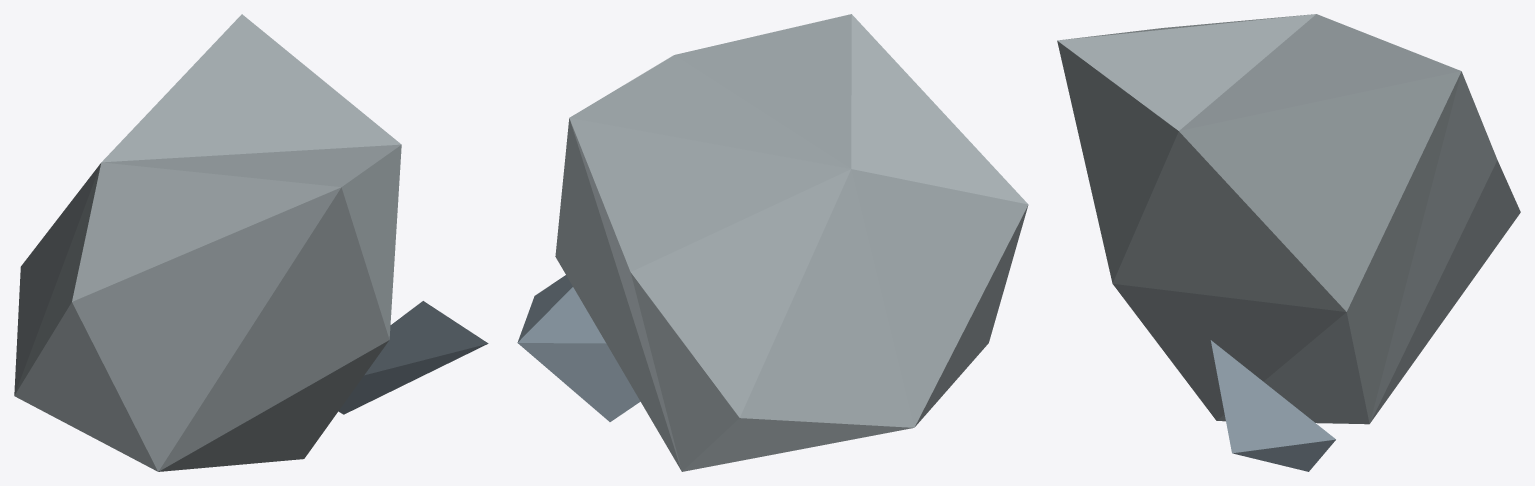
The model's file is Rock_02_LOD2.fbx.
3 views of the same model, side by side, from view 1: azimuth 30°, elevation 25°; view 2: azimuth 150°, elevation 25°; view 3: azimuth 270°, elevation 25° (orthographic). The views are drawn at different scales.
Visible parts, largest first — view 1: Rock_02_LOD2; view 2: Rock_02_LOD2; view 3: Rock_02_LOD2.
Boxes of the visible parts, left/top/right/bottom form: Rock_02_LOD2: left=14, top=14, right=488, bottom=471; Rock_02_LOD2: left=517, top=14, right=1028, bottom=471; Rock_02_LOD2: left=1057, top=14, right=1520, bottom=471.
Bounding box in the file's own units: 213 × 164 × 177.
